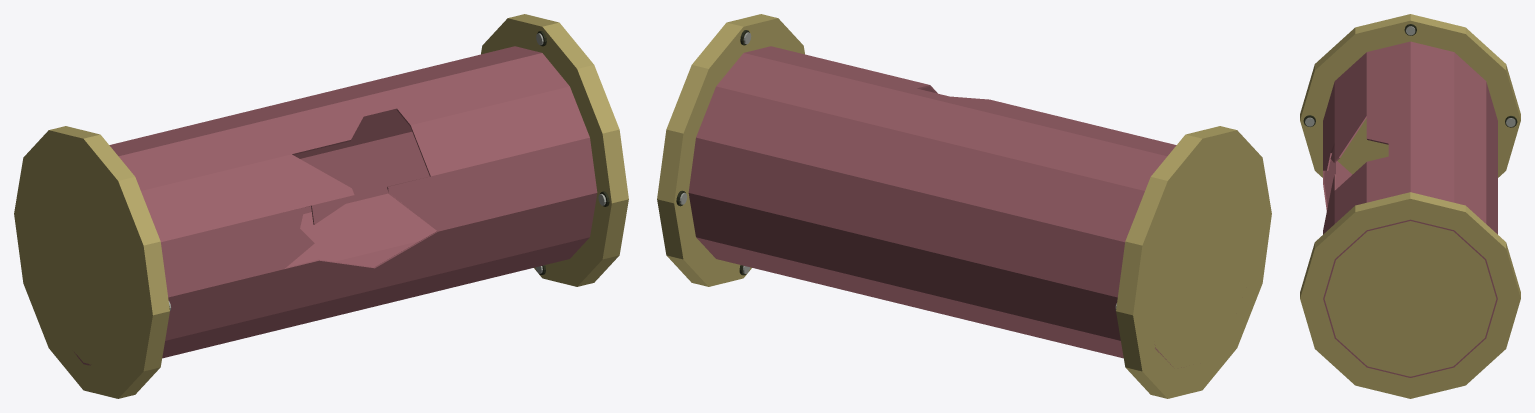
The model's file is Pipe_Small_Broken_H.fbx.
3 renders of one model, left to right at view 1: azimuth 30°, elevation 25°; view 2: azimuth 150°, elevation 25°; view 3: azimuth 270°, elevation 25°, orthographic. The views are drawn at different scales.
Parts seen in each view (by area): view 1: Pipe_Small_Broken_H, Cylinder.154, Cylinder.159; view 2: Pipe_Small_Broken_H, Cylinder.154, Cylinder.159; view 3: Cylinder.159, Pipe_Small_Broken_H, Cylinder.154.
Boxes of the visible parts, bbox=[...] form: Pipe_Small_Broken_H: bbox=[74, 46, 597, 365]; Cylinder.154: bbox=[14, 126, 169, 398]; Cylinder.159: bbox=[481, 14, 628, 286]; Pipe_Small_Broken_H: bbox=[688, 46, 1181, 367]; Cylinder.154: bbox=[1116, 126, 1271, 398]; Cylinder.159: bbox=[657, 14, 804, 286]; Cylinder.159: bbox=[1300, 192, 1520, 398]; Pipe_Small_Broken_H: bbox=[1323, 41, 1497, 377]; Cylinder.154: bbox=[1300, 14, 1520, 177].
Bounding box in the file's own units: 30 × 15.16 × 15.16.
